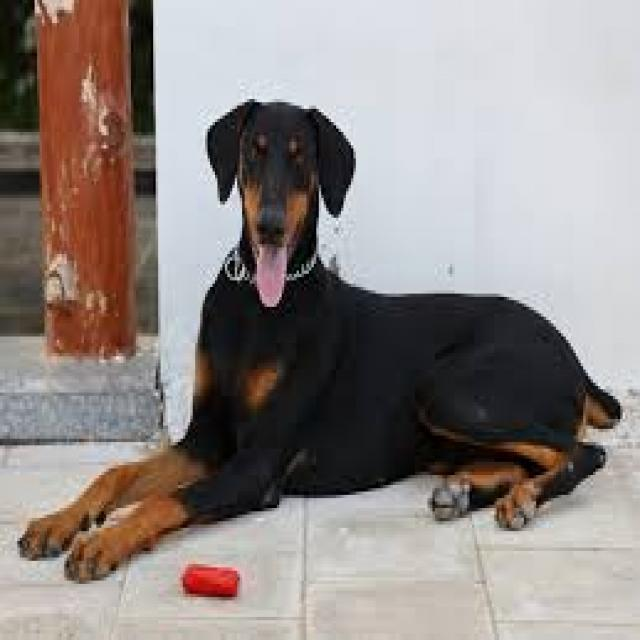Dog: (12, 94, 625, 588)
